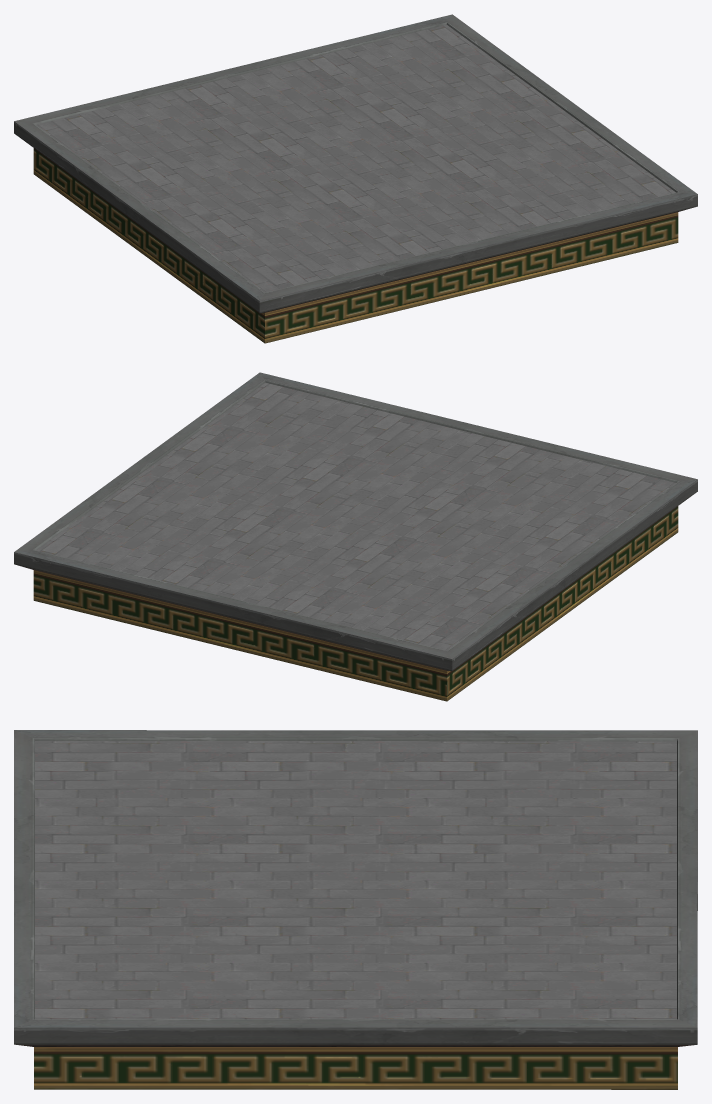
File: cs_js_jianzhu04_wuding.FBX
3 renders of one model, top to bottom at view 1: azimuth 30°, elevation 25°; view 2: azimuth 150°, elevation 25°; view 3: azimuth 270°, elevation 25°, orthographic. The views are drawn at different scales.
Visible parts, largest first — view 1: cs_js_jianzhu04_wuding; view 2: cs_js_jianzhu04_wuding; view 3: cs_js_jianzhu04_wuding.
Part boxes in pixels (x1,y1,x2,y2): cs_js_jianzhu04_wuding: [14, 14, 697, 343]; cs_js_jianzhu04_wuding: [14, 372, 697, 701]; cs_js_jianzhu04_wuding: [14, 730, 697, 1089].
Bounding box in the file's own units: 1593 × 176 × 1547.
